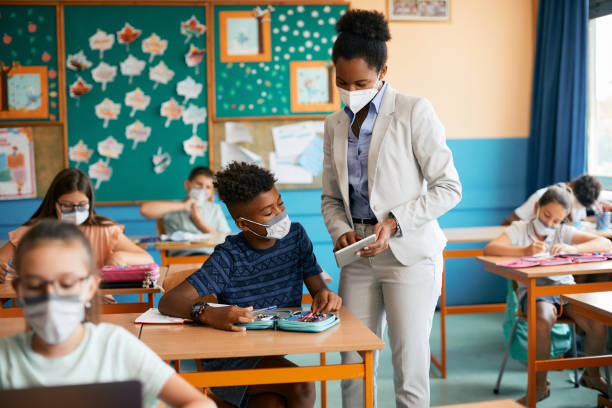with mask: (7, 226, 97, 347), (331, 10, 391, 116), (216, 169, 298, 243), (52, 171, 95, 227), (532, 192, 567, 239), (188, 164, 216, 205)
